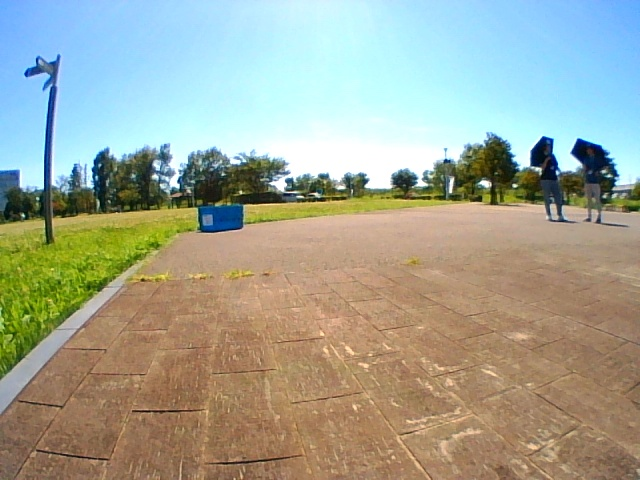blue_box: (198, 204, 243, 231)
tag: (203, 214, 211, 225)
